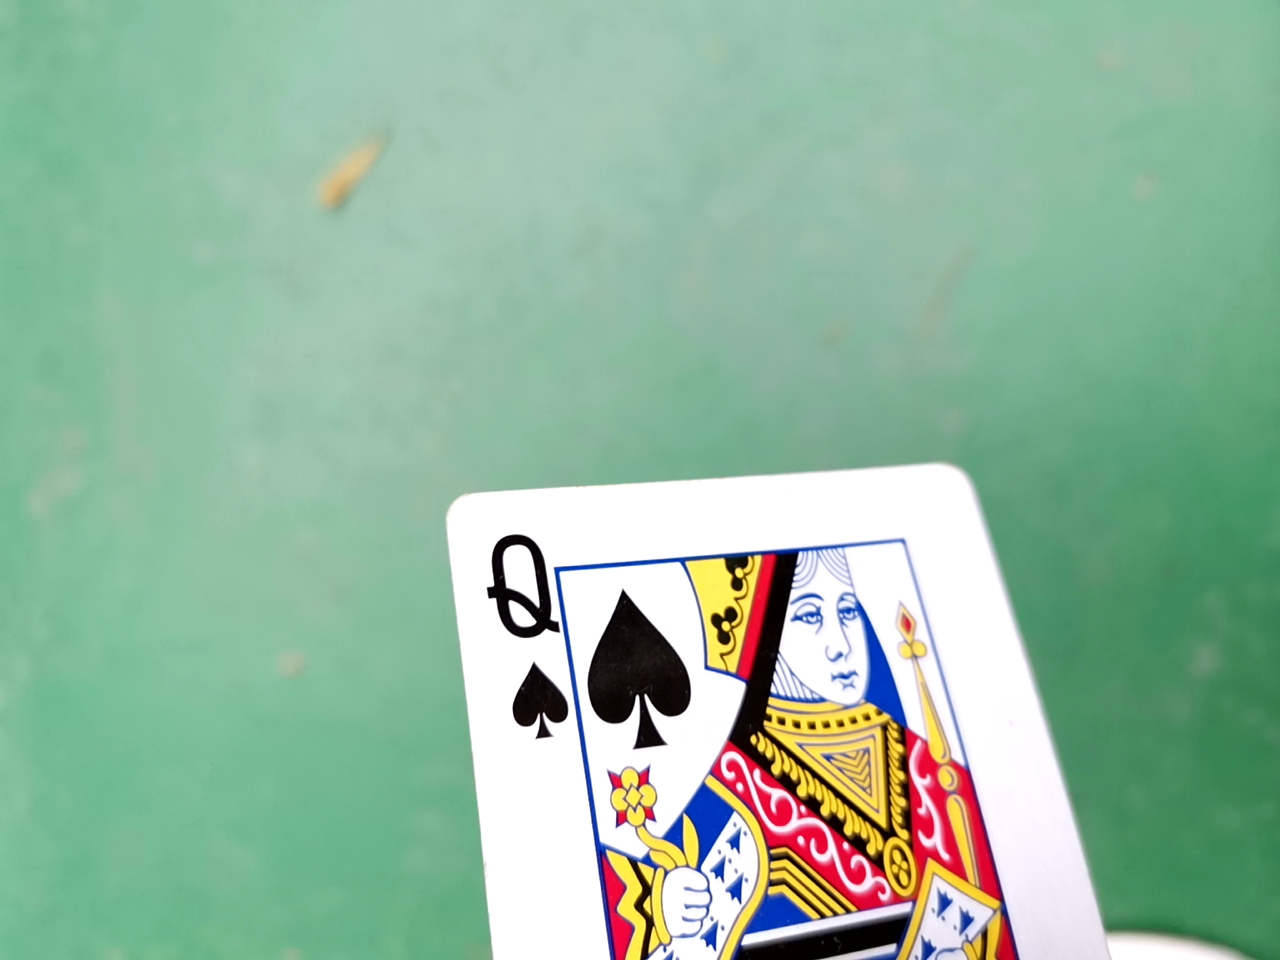ht q: (458, 464, 1207, 957)
